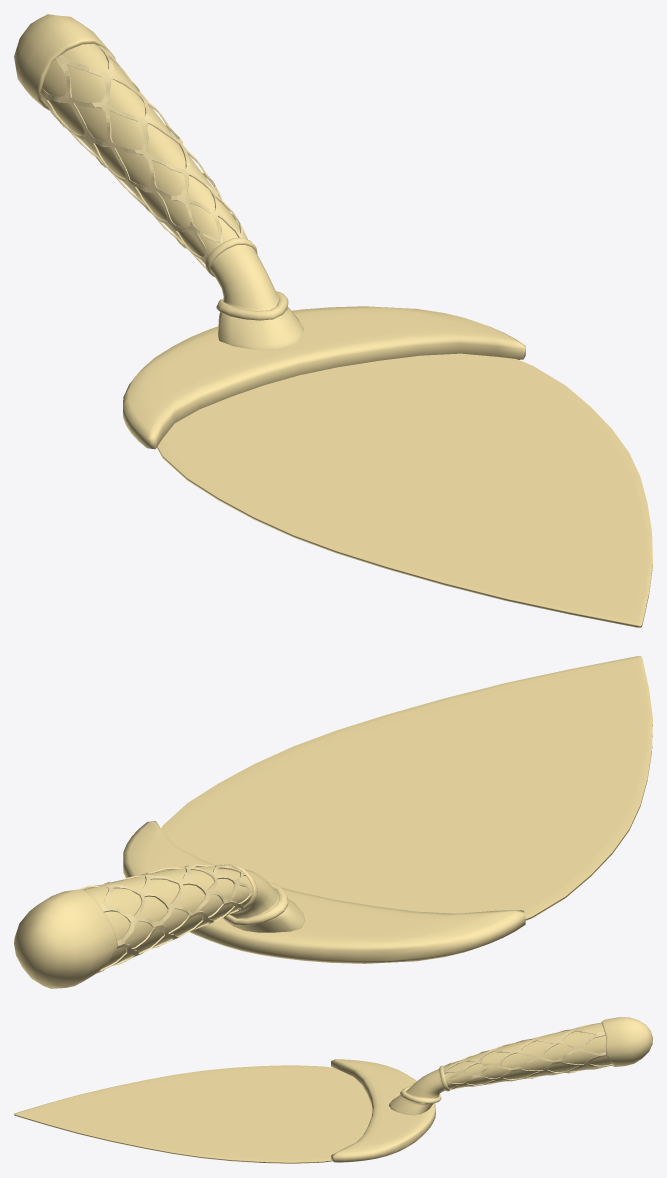
Rendered from Trowel_Artefact.fbx.
3 views of the same model, one above another, from view 1: azimuth 30°, elevation 25°; view 2: azimuth 150°, elevation 25°; view 3: azimuth 270°, elevation 25° (orthographic). The views are drawn at different scales.
Parts seen in each view (by area): view 1: Trowel_Base, Trowel_Floral_Sculpt, Trowel_Handle, Trowel_Lattice, Trowel_Cap; view 2: Trowel_Base, Trowel_Floral_Sculpt, Trowel_Handle, Trowel_Cap, Trowel_Lattice; view 3: Trowel_Base, Trowel_Handle, Trowel_Floral_Sculpt, Trowel_Lattice, Trowel_Cap.
Boxes of the visible parts, x1,y1,x2,y2 form: Trowel_Base: (157,353,652,627); Trowel_Floral_Sculpt: (123,306,525,449); Trowel_Handle: (41,44,303,350); Trowel_Lattice: (40,46,247,268); Trowel_Cap: (14,14,115,110); Trowel_Base: (161,656,652,920); Trowel_Floral_Sculpt: (123,821,525,963); Trowel_Handle: (83,864,305,968); Trowel_Cap: (14,889,117,988); Trowel_Lattice: (79,864,252,973); Trowel_Base: (14,1065,372,1163); Trowel_Handle: (389,1022,612,1115); Trowel_Floral_Sculpt: (331,1059,435,1162); Trowel_Lattice: (443,1024,612,1089); Trowel_Cap: (601,1017,652,1066).
Bounding box in the file's own units: 0.9198 × 0.4343 × 2.55.
